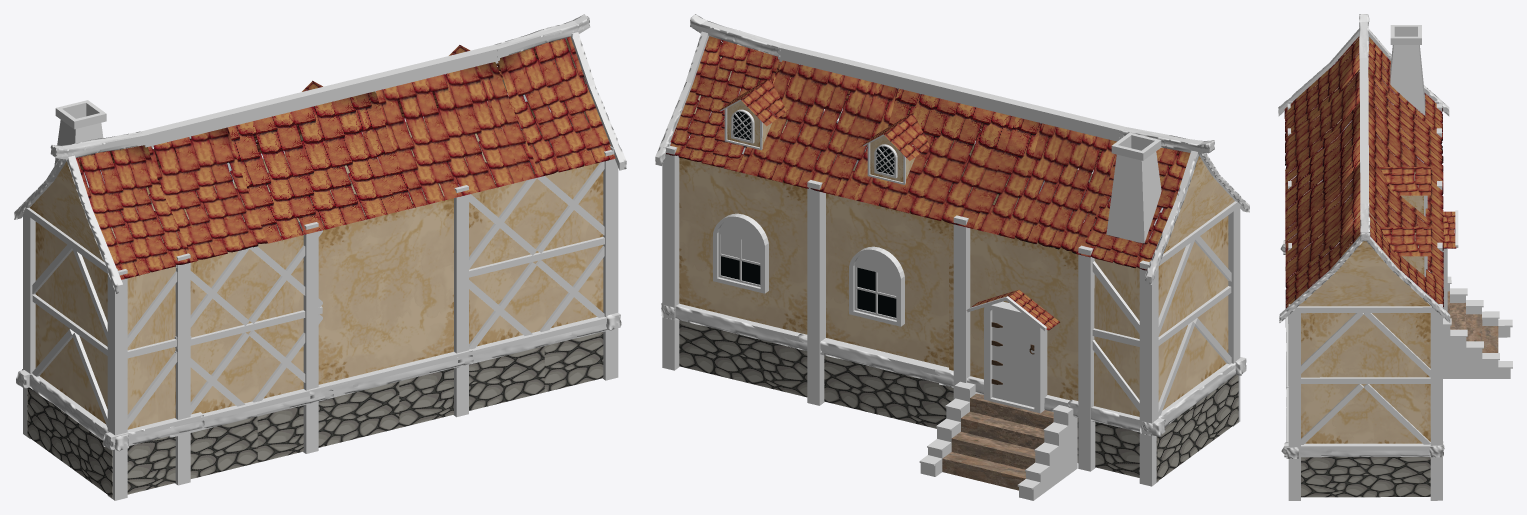
Rendered from house_4.fbx.
3 renders of one model, left to right at view 1: azimuth 30°, elevation 25°; view 2: azimuth 150°, elevation 25°; view 3: azimuth 270°, elevation 25°, orthographic. The views are drawn at different scales.
Visible parts, largest first — view 1: Plane.221, Cube.219, Plane.1657, Cube.220, Plane.1658, Cube.213, Plane.222, Cube.216, Cube.214, Cube.221, Plane.209, Plane.210 (+10 smaller); view 2: Plane.215, Plane.214, Plane.1657, Plane.1658, Plane.222, Cube.218, Plane.353, Cube.214, Cube.213, Cube.216, Cube.215, Plane.1645 (+14 smaller); view 3: Plane.224, Cube.216, Plane.1657, Plane.1658, Cube.213, Plane.225, Cube.214, Cube.218, Cube.008, Cube.222, Cube.223, Cube.288 (+5 smaller).
Part boxes in pixels (x1,y1,x2,y2): Plane.221: (309, 198, 473, 403); Cube.219: (457, 161, 621, 367); Plane.1657: (224, 74, 415, 243); Cube.220: (168, 230, 333, 437); Plane.1658: (359, 44, 540, 207); Cube.213: (14, 131, 193, 293); Plane.222: (22, 222, 128, 451); Cube.216: (483, 14, 626, 176); Cube.214: (140, 111, 267, 261); Cube.221: (102, 266, 204, 450); Plane.209: (399, 346, 544, 427); Plane.210: (257, 381, 399, 462); Plane.215: (661, 157, 821, 352); Plane.214: (797, 193, 953, 386); Plane.1657: (853, 73, 1049, 235); Plane.1658: (736, 43, 911, 199); Plane.222: (1140, 215, 1235, 436); Cube.218: (919, 381, 1077, 500); Plane.353: (949, 223, 1078, 400); Cube.214: (998, 108, 1126, 254); Cube.213: (1076, 127, 1249, 284); Cube.216: (655, 14, 782, 171); Cube.215: (1068, 258, 1165, 436); Plane.1645: (939, 301, 1099, 422); Plane.224: (1281, 313, 1444, 457); Cube.216: (1279, 203, 1450, 323); Plane.1657: (1285, 92, 1443, 232); Plane.1658: (1285, 151, 1443, 282); Cube.213: (1278, 14, 1449, 139); Plane.225: (1301, 457, 1430, 497); Cube.214: (1285, 57, 1443, 171); Cube.218: (1443, 276, 1512, 378); Cube.008: (1387, 25, 1425, 115); Cube.222: (1288, 304, 1300, 500); Cube.223: (1430, 304, 1442, 500); Cube.288: (1376, 167, 1430, 217).
Size of the model in its own units: 253 by 151 by 114.
Materials: 8 (5 with a texture image).
